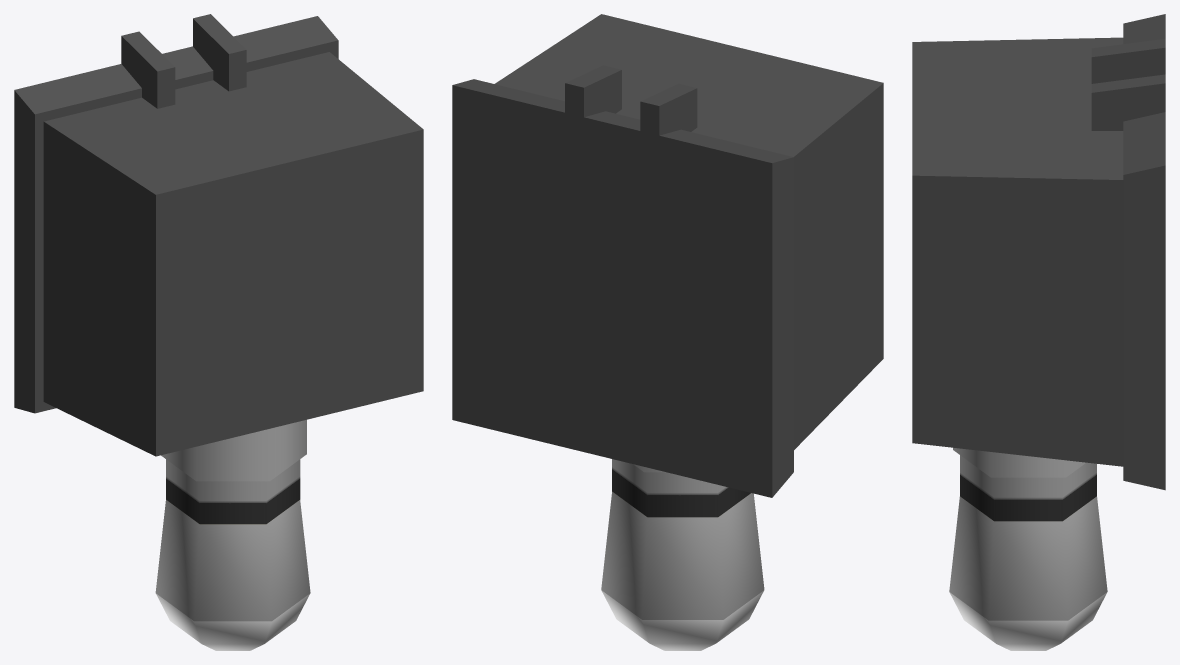
File: SW_PROP_TunnelLight.fbx
The picture shows the model from 3 angles, left to right: view 1: azimuth 30°, elevation 25°; view 2: azimuth 150°, elevation 25°; view 3: azimuth 270°, elevation 25°; orthographic projection. The views are drawn at different scales.
Visible parts, largest first — view 1: SW_PROP_TunnelLight; view 2: SW_PROP_TunnelLight; view 3: SW_PROP_TunnelLight.
Boxes of the visible parts, x1=… form: SW_PROP_TunnelLight: x1=14, y1=14, x2=423, y2=650; SW_PROP_TunnelLight: x1=452, y1=14, x2=883, y2=650; SW_PROP_TunnelLight: x1=912, y1=14, x2=1165, y2=650.
Bounding box in the file's own units: 0.17 × 0.3053 × 0.12.
